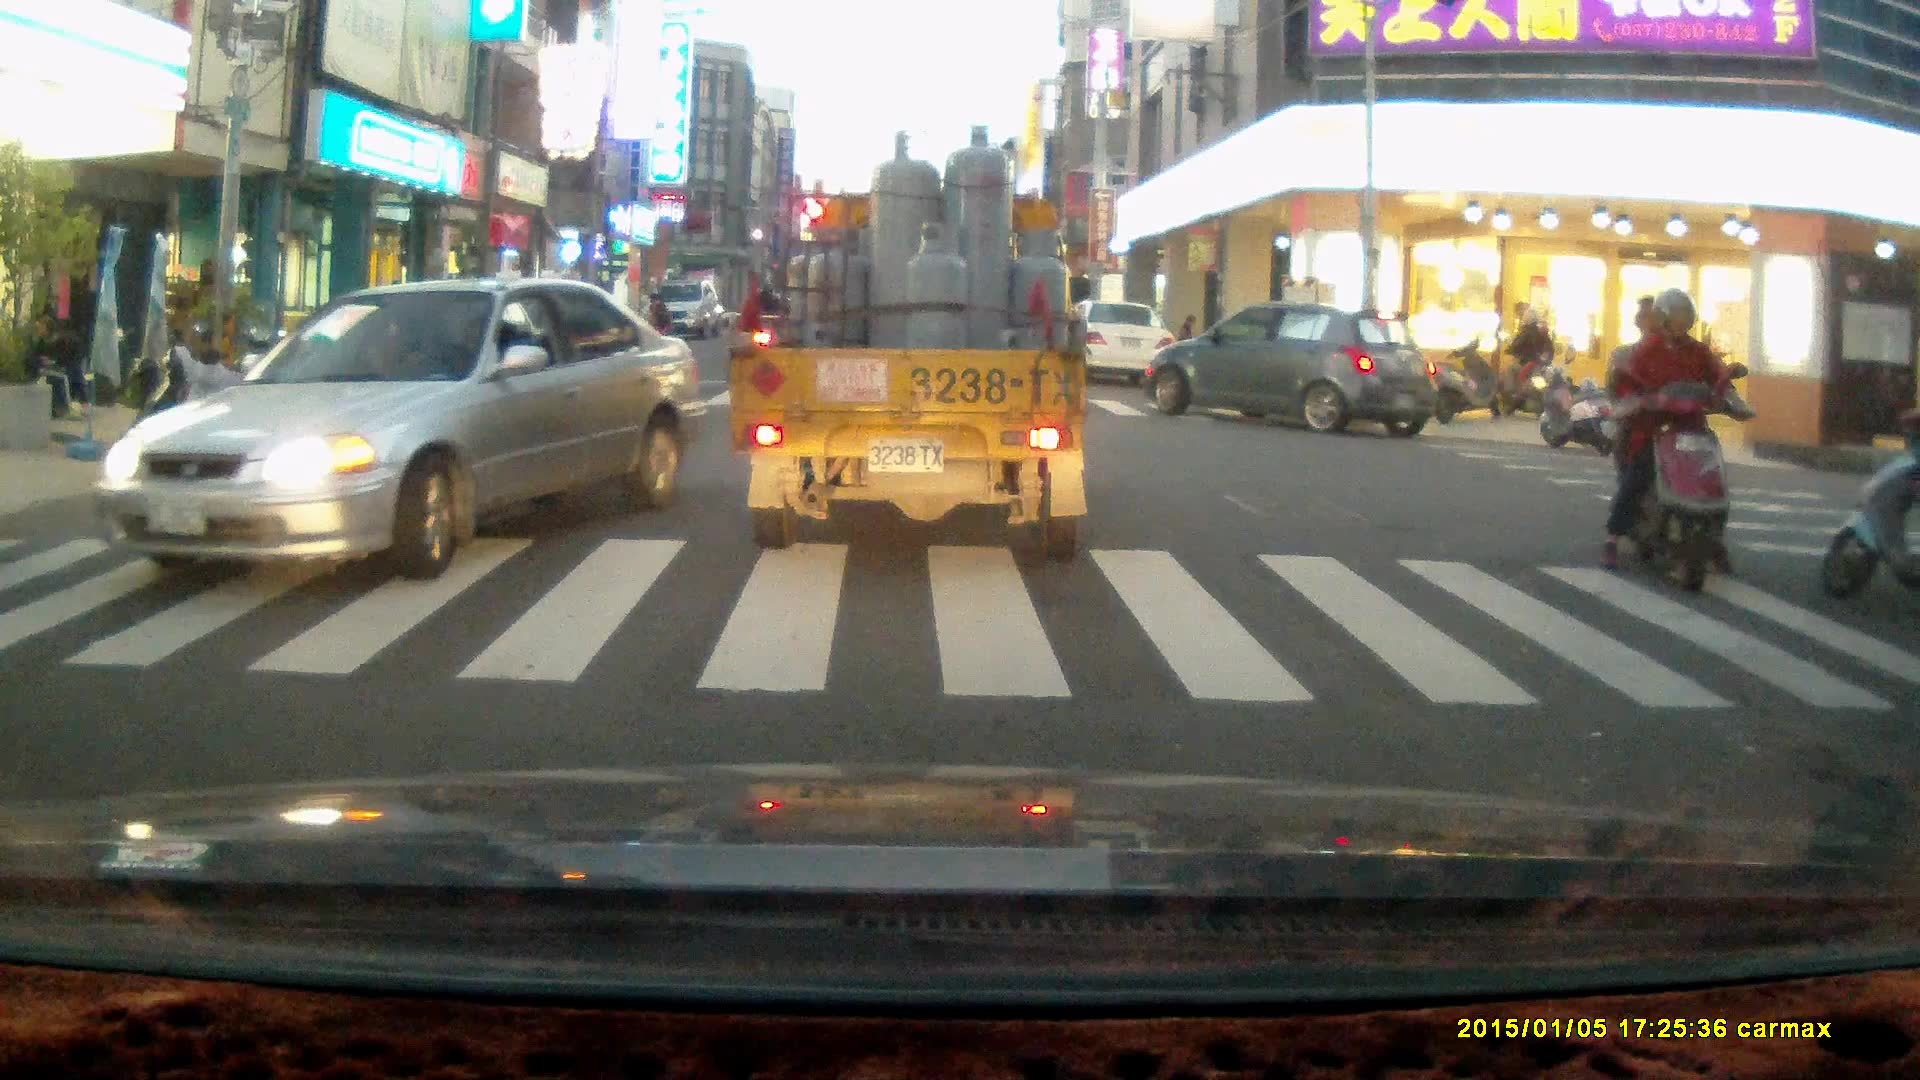pedestrian: (173, 340, 250, 452), (644, 290, 672, 350), (1175, 311, 1196, 375)
rider: (1591, 289, 1747, 594), (1819, 394, 1920, 609), (1495, 304, 1561, 419)
vehicle: (90, 277, 703, 583), (723, 121, 1094, 570), (1148, 303, 1451, 440), (1054, 300, 1171, 383), (648, 279, 722, 339)
